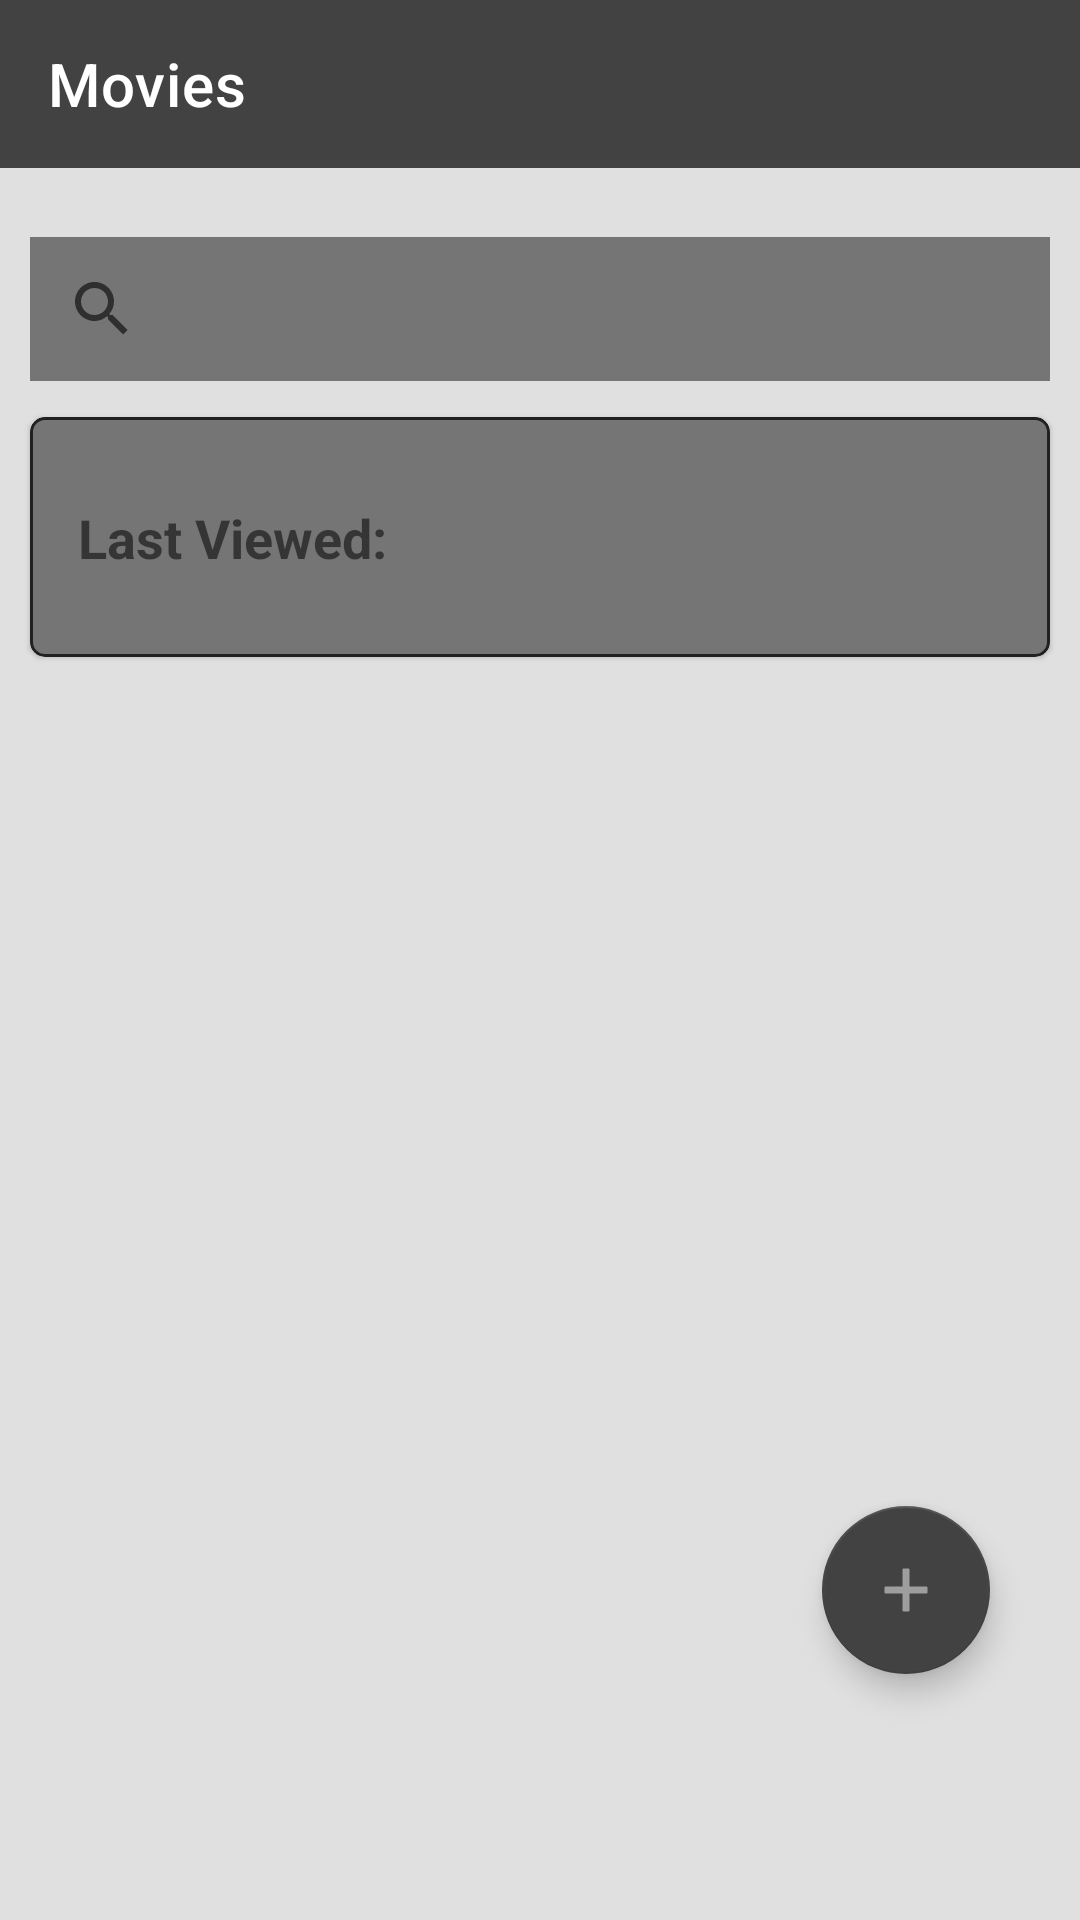

Locate icon controls on the screen. Image size 1080*1920, boxes as [x1,y1,x2,y2].
add: [822,1506,990,1674]
